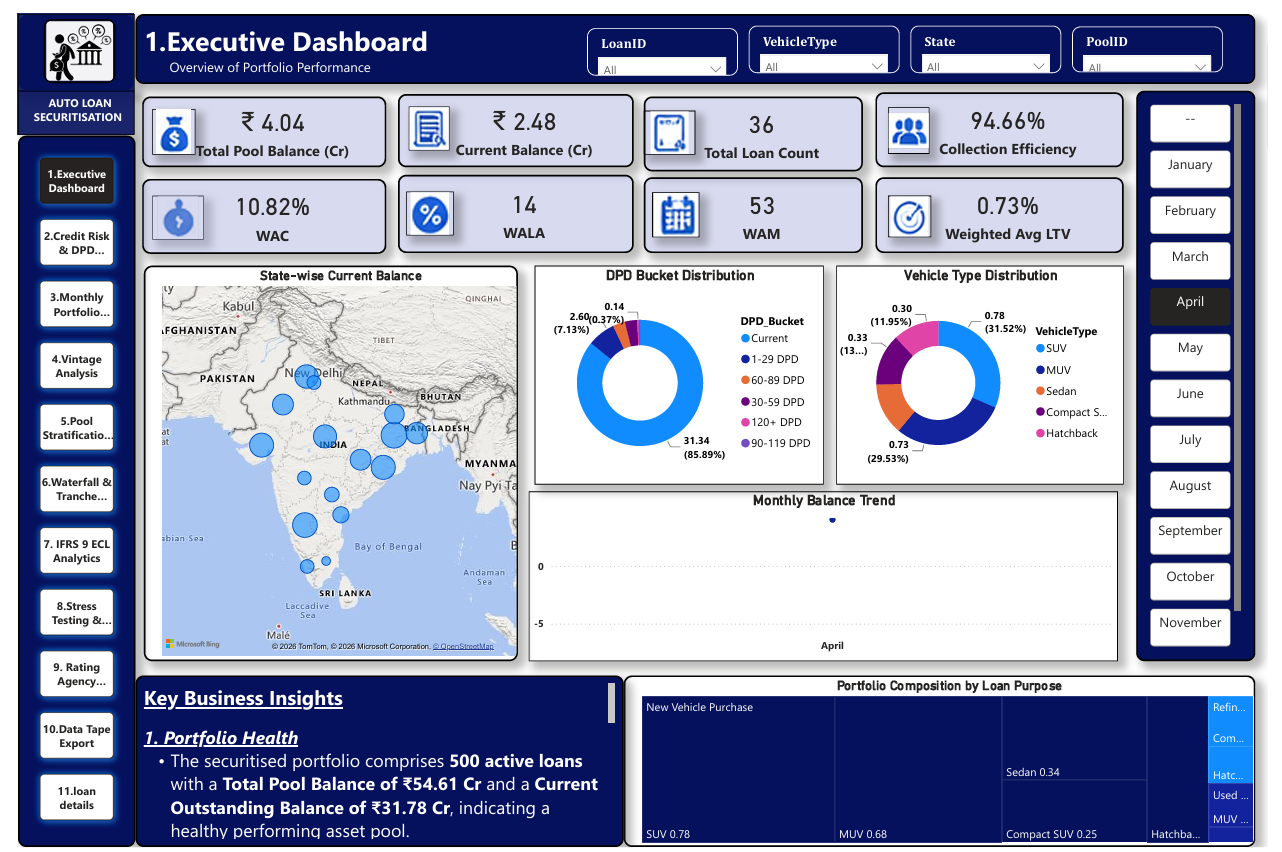

The dashboard page shown, as its layout file describes it:
{"tool":"powerbi","page":{"name":"1.Executive Dashboard","canvas":[1500,1000],"ordinal":0},"visuals":[{"type":"shape","box":[0,0,139.9,92.9],"z":0},{"type":"textbox","box":[140.8,0,1343.8,83.8],"z":1000},{"type":"card","fields":{"Values":["Loan Master.Total Pool Balance"]},"box":[149.1,98.9,293.2,85.5],"z":2000},{"type":"card","fields":{"Values":["Loan Master.Current Balance"]},"box":[455.8,95.5,283.2,88.8],"z":3000},{"type":"card","fields":{"Values":["Loan Master.Total Loan Count"]},"box":[750.7,98.9,263.1,90.5],"z":4000},{"type":"card","fields":{"Values":["Loan Master.Collection Efficiency"]},"box":[1028.8,93.8,298.3,90.5],"z":5000},{"type":"image","box":[750.7,115.6,62,53.6],"z":6000},{"type":"image","box":[469.2,110.6,48.6,53.6],"z":7000},{"type":"image","box":[1043.9,112.3,50.3,55.3],"z":8000},{"type":"image","box":[160.9,217.8,62,53.6],"z":9000},{"type":"image","box":[160.9,113.9,51.9,55.3],"z":10000},{"type":"lineChart","title":"Monthly Balance Trend","fields":{"Y":["Loan Master.Total Pool Balance (Cr)"],"Category":["Calendar.Month"]},"box":[613.3,573.1,707.1,204.4],"z":11000},{"type":"donutChart","title":"DPD Bucket Distribution","fields":{"Y":["DPD History.Current Balancedpd (Cr)"],"Category":["DPD History.DPD_Bucket"]},"box":[620,301.6,346.9,263.1],"z":12000},{"type":"map","title":"State-wise Current Balance","fields":{"Category":["Loan Master.State"],"Size":["Loan Master.Current Balance (Cr)"]},"box":[150.8,301.6,449.1,475.9],"z":13000},{"type":"donutChart","title":"Vehicle Type Distribution","fields":{"Category":["Loan Master.VehicleType"],"Y":["Loan Master.Current Balance (Cr)"]},"box":[981.9,301.6,345.2,263.1],"z":14000},{"type":"image","box":[31.4,6,85.7,77.2],"z":15000},{"type":"textbox","box":[0,91.7,139.9,53.1],"z":16000},{"type":"slicer","fields":{"Values":["Loan Master.LoanID"]},"box":[682.8,16.9,181,56.7],"z":17000},{"type":"slicer","fields":{"Values":["Loan Master.VehicleType"]},"box":[877.1,14.5,181,56.7],"z":18000},{"type":"slicer","fields":{"Values":["Loan Master.State"]},"box":[1071.3,14.5,181,56.7],"z":19000},{"type":"advancedSlicerVisual","fields":{"Values":["Calendar.Month"]},"box":[1342.2,92.2,142.4,685.3],"z":20000},{"type":"card","fields":{"Values":["Loan Master.WAC"]},"box":[149.1,197.7,293.2,90.5],"z":21000},{"type":"card","fields":{"Values":["Loan Master.WALA"]},"box":[455.8,192.7,283.2,93.8],"z":22000},{"type":"card","fields":{"Values":["Loan Master.WAM"]},"box":[750.7,196,263.1,90.5],"z":23000},{"type":"card","fields":{"Values":["Loan Master.Weighted Avg LTV"]},"box":[1028.8,196,298.3,90.5],"z":24000},{"type":"treemap","title":"Portfolio Composition by Loan Purpose","fields":{"Group":["Loan Master.LoanPurpose"],"Values":["Loan Master.Current Balance (Cr)"],"Details":["Loan Master.VehicleType"]},"box":[727.2,794.2,757.4,206.1],"z":25000},{"type":"slicer","fields":{"Values":["Loan Master.PoolID"]},"box":[1265.1,15.1,181,55.3],"z":26000},{"type":"pageNavigator","box":[0,145.8,140.8,854.6],"z":27000},{"type":"image","box":[760.7,214.5,57,53.6],"z":28000},{"type":"image","box":[1043.9,217.8,51.9,50.3],"z":29000},{"type":"image","box":[465.8,212.8,57,53.6],"z":30000},{"type":"textbox","box":[140.8,794.2,586.5,206.1],"z":31000}]}

Visuals, with their boxes on the page's 1500x1000 design canvas (x1, y1, x2, y2). These are canvas units, not pixel positions in the 1282x852 screenshot, which may show the page scaled, cropped or inside an application window:
shape: 0,0,140,93
textbox: 141,0,1485,84
card - Loan Master.Total Pool Balance: 149,99,442,184
card - Loan Master.Current Balance: 456,96,739,184
card - Loan Master.Total Loan Count: 751,99,1014,189
card - Loan Master.Collection Efficiency: 1029,94,1327,184
image: 751,116,813,169
image: 469,111,518,164
image: 1044,112,1094,168
image: 161,218,223,271
image: 161,114,213,169
"Monthly Balance Trend" lineChart: 613,573,1320,778
"DPD Bucket Distribution" donutChart: 620,302,967,565
"State-wise Current Balance" map: 151,302,600,778
"Vehicle Type Distribution" donutChart: 982,302,1327,565
image: 31,6,117,83
textbox: 0,92,140,145
slicer - Loan Master.LoanID: 683,17,864,74
slicer - Loan Master.VehicleType: 877,14,1058,71
slicer - Loan Master.State: 1071,14,1252,71
advancedSlicerVisual - Calendar.Month: 1342,92,1485,778
card - Loan Master.WAC: 149,198,442,288
card - Loan Master.WALA: 456,193,739,286
card - Loan Master.WAM: 751,196,1014,286
card - Loan Master.Weighted Avg LTV: 1029,196,1327,286
"Portfolio Composition by Loan Purpose" treemap: 727,794,1485,1000
slicer - Loan Master.PoolID: 1265,15,1446,70
pageNavigator: 0,146,141,1000
image: 761,214,818,268
image: 1044,218,1096,268
image: 466,213,523,266
textbox: 141,794,727,1000
